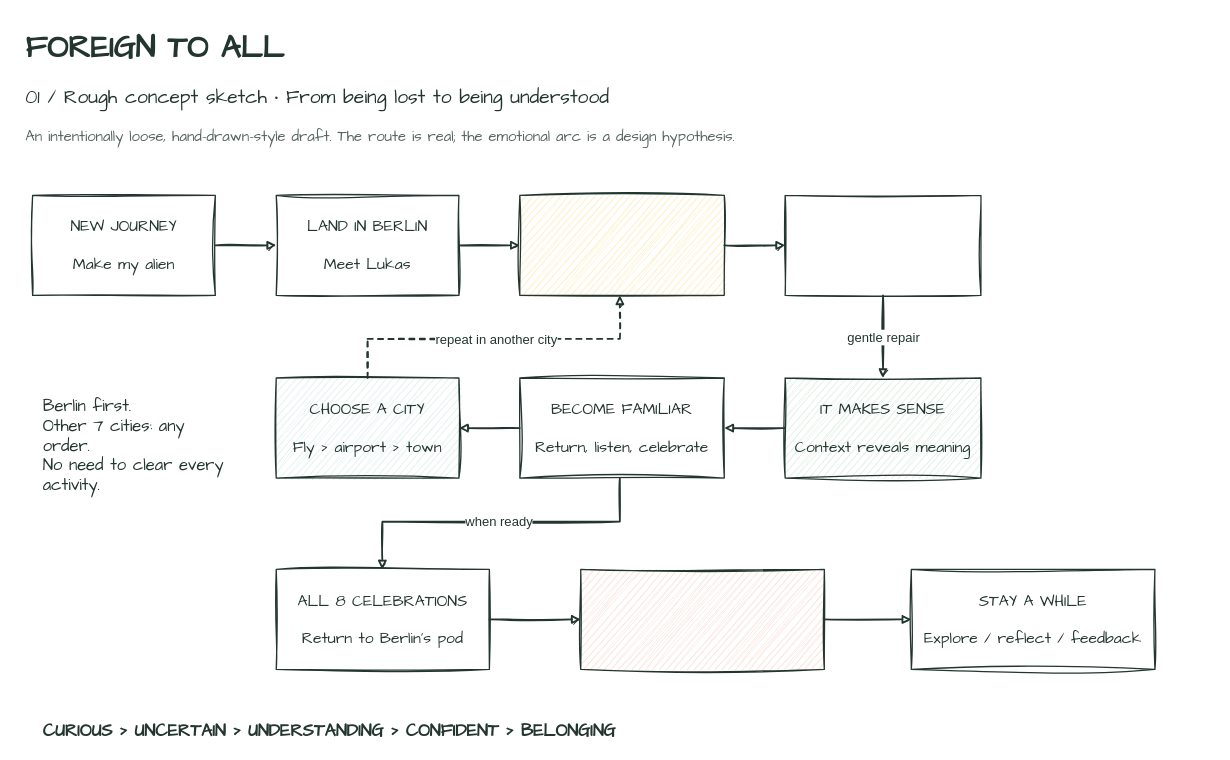
This 1230x760 diagram has some shape labels left out. Here are the shapes that lost their labels. From the top down, the centre of each, then its label:
the point at 622,245: HEAR + NOTICE What does that mean?
the point at 882,245: TRY SOMETHING Point / speak / ask
the point at 702,619: CHOOSE A FRIEND Receive a meaningful name
